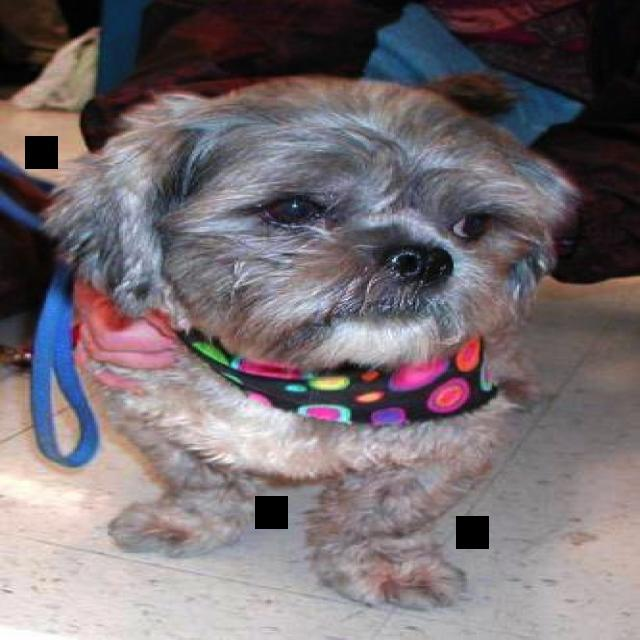adult_dog: (40, 68, 581, 612)
